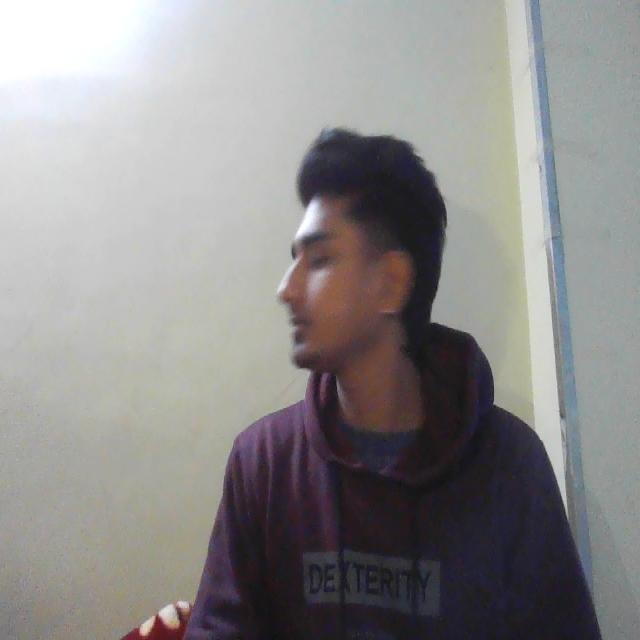real: (278, 137, 404, 375)
